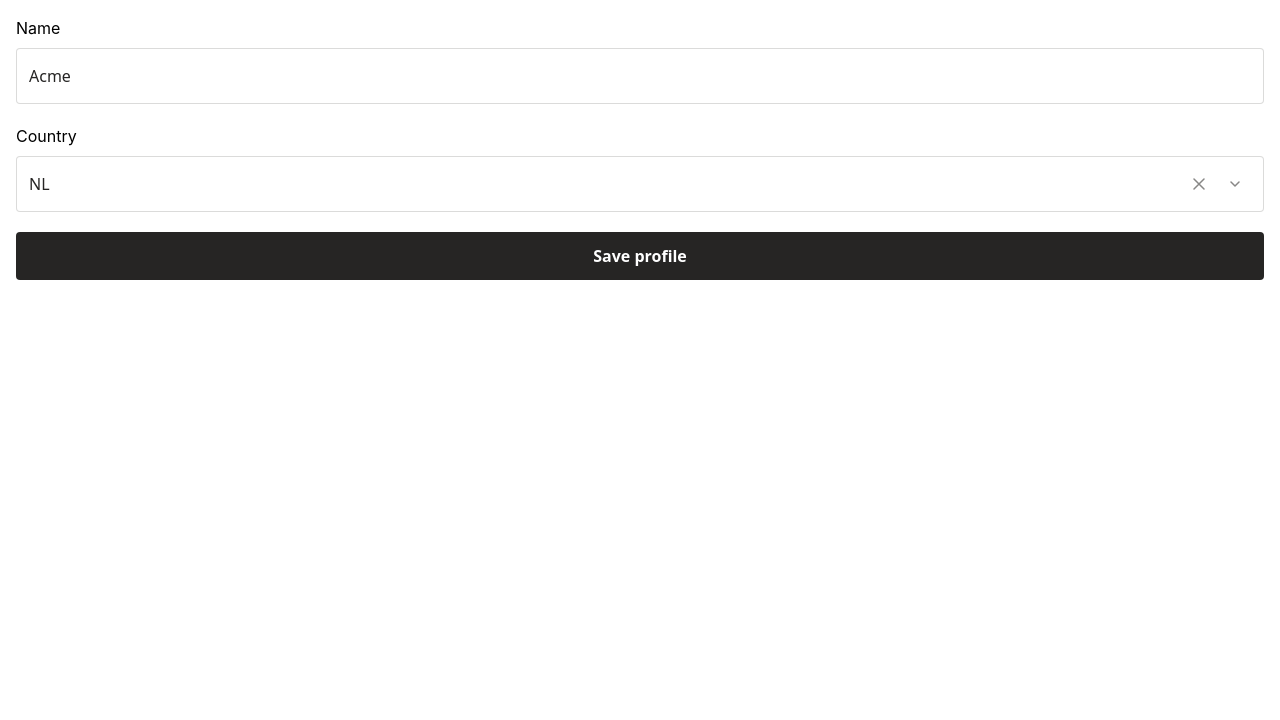
it: AccountProfileCard country › renders the country combobox and threads savedCountry as an 'as saved' option
The width and height of the screenshot is (1280, 720).
Click the dropdown labelled "Country" at (604, 184), box [29,173,1179,195]
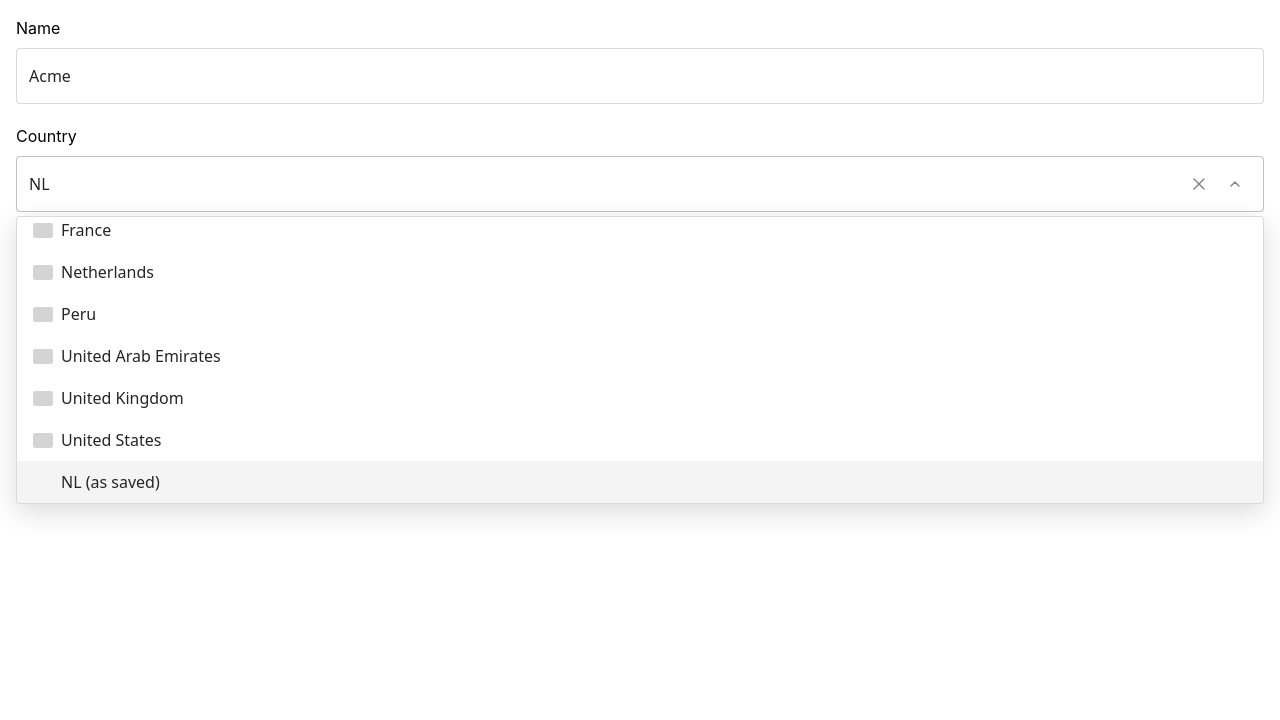
Expected: the option "NL (as saved)" is shown, [17,461,1263,503]
